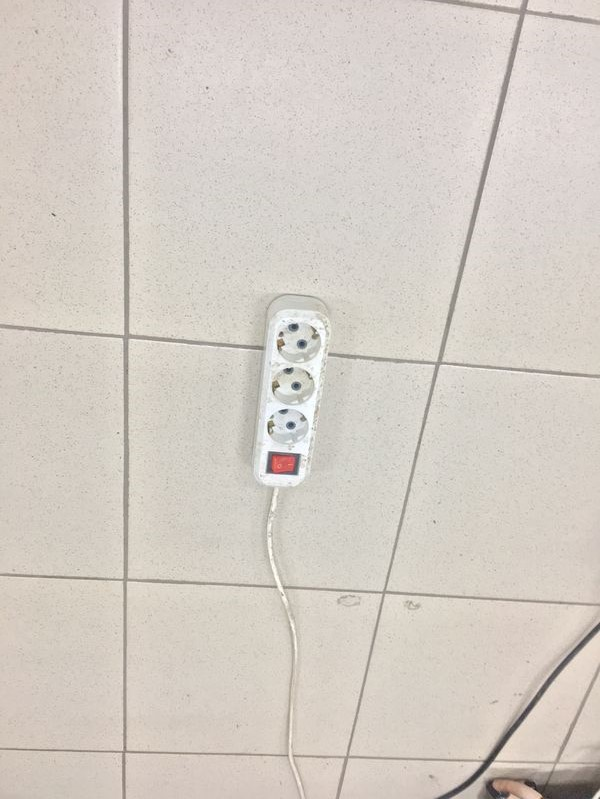socket: (242, 281, 337, 500)
